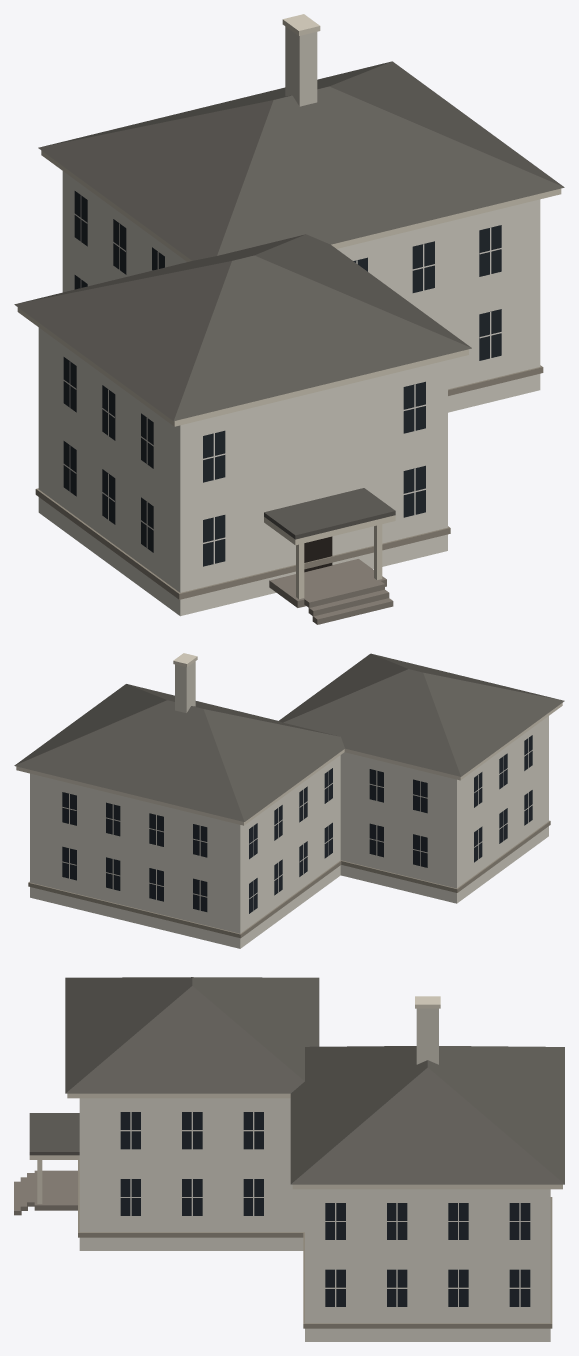
File: private-school-scott-street-1961.glb
3 renders of one model, top to bottom at view 1: azimuth 30°, elevation 25°; view 2: azimuth 150°, elevation 25°; view 3: azimuth 270°, elevation 25°, orthographic. The views are drawn at different scales.
Parts seen in each view (by area): view 1: private_tar, private_brick, private_glass, private_trim, private_base, private_stone, private_brick2, private_sash; view 2: private_brick, private_tar, private_glass, private_stone, private_trim, private_sash, private_brick2; view 3: private_tar, private_brick, private_glass, private_trim, private_stone, private_base, private_sash, private_brick2.
Boxes of the visible parts, x1=… form: private_tar: x1=14, y1=61, x2=564, y2=539; private_brick: x1=38, y1=171, x2=540, y2=616; private_glass: x1=63, y1=191, x2=501, y2=566; private_trim: x1=17, y1=14, x2=561, y2=599; private_base: x1=269, y1=559, x2=393, y2=624; private_stone: x1=35, y1=365, x2=543, y2=599; private_brick2: x1=285, y1=26, x2=317, y2=106; private_sash: x1=63, y1=195, x2=501, y2=563; private_brick: x1=30, y1=716, x2=548, y2=948; private_tar: x1=14, y1=653, x2=564, y2=821; private_glass: x1=62, y1=735, x2=532, y2=913; private_stone: x1=28, y1=820, x2=550, y2=938; private_trim: x1=16, y1=653, x2=562, y2=825; private_sash: x1=62, y1=738, x2=532, y2=910; private_brick2: x1=175, y1=661, x2=195, y2=713; private_tar: x1=29, y1=977, x2=564, y2=1184; private_brick: x1=79, y1=1098, x2=550, y2=1341; private_glass: x1=120, y1=1112, x2=530, y2=1306; private_trim: x1=29, y1=996, x2=562, y2=1203; private_stone: x1=78, y1=1160, x2=552, y2=1328; private_base: x1=14, y1=1170, x2=77, y2=1215; private_sash: x1=120, y1=1112, x2=530, y2=1306; private_brick2: x1=416, y1=1008, x2=438, y2=1064.
Bounding box in the file's own units: 23.9 × 15.1 × 26.91.
